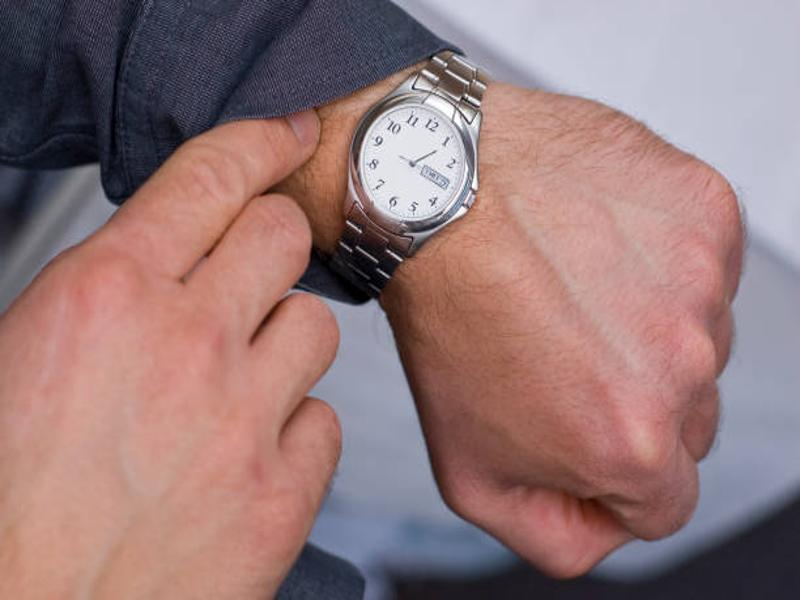watch: (331, 48, 490, 294)
